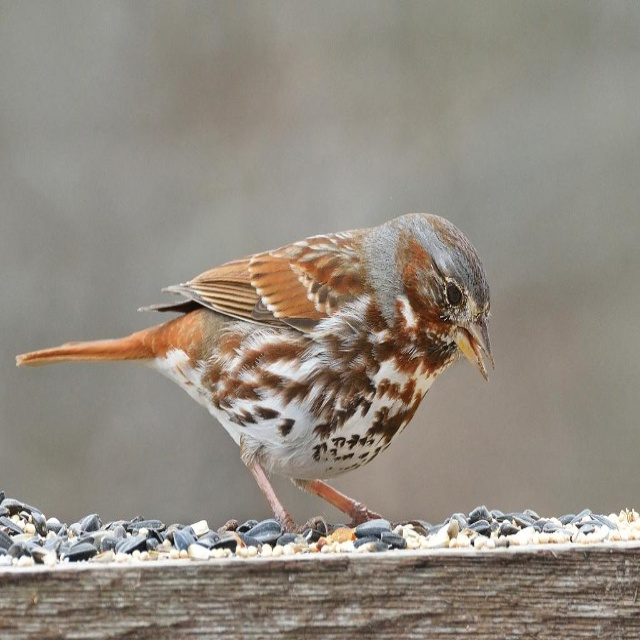Sparrow: (15, 214, 495, 537)
